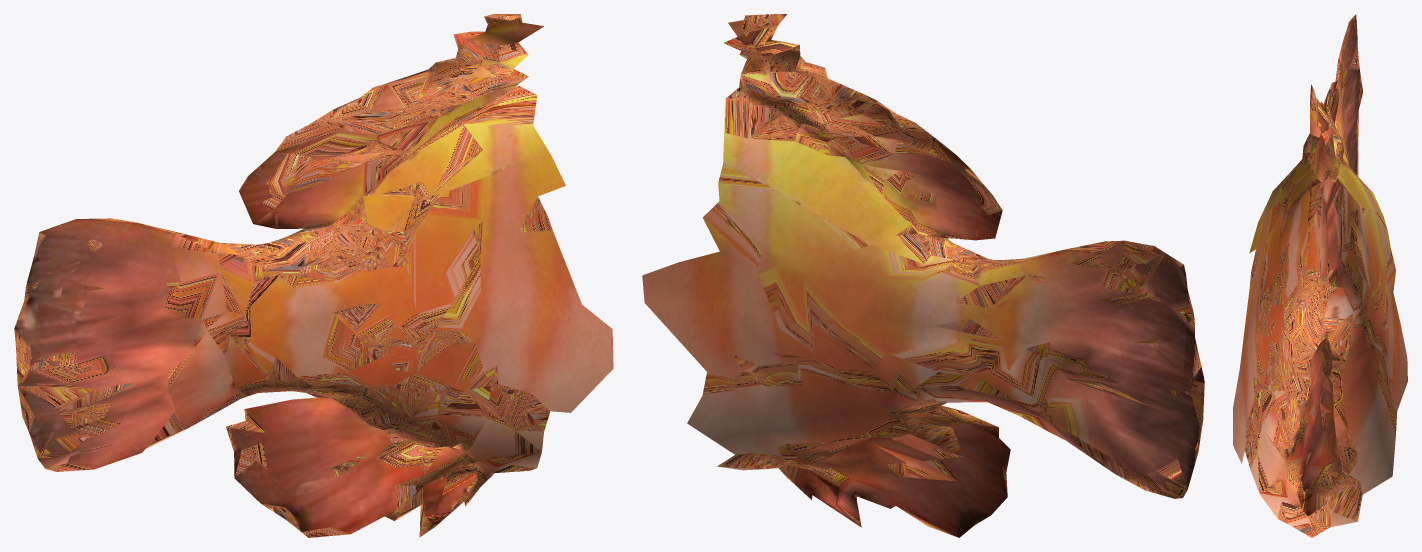
The model's file is neptune_b.glb.
The picture shows the model from 3 angles, left to right: view 1: azimuth 30°, elevation 25°; view 2: azimuth 150°, elevation 25°; view 3: azimuth 270°, elevation 25°; orthographic projection. The views are drawn at different scales.
Visible parts, largest first — view 1: neptune_b; view 2: neptune_b; view 3: neptune_b.
Part boxes in pixels (x1,y1,x2,y2): neptune_b: (14, 14, 613, 537); neptune_b: (642, 14, 1204, 537); neptune_b: (1233, 14, 1407, 537).
Bounding box in the file's own units: 0.4403 × 0.3925 × 0.1328.
Materials: 1 (1 with a texture image).
